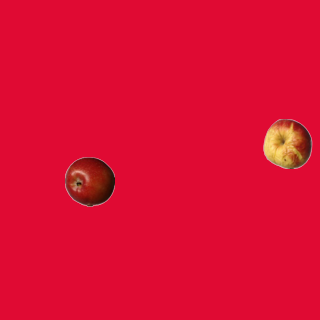Apple Braeburn: (64, 156, 114, 206)
Apple Red Yellow 1: (262, 118, 312, 168)
